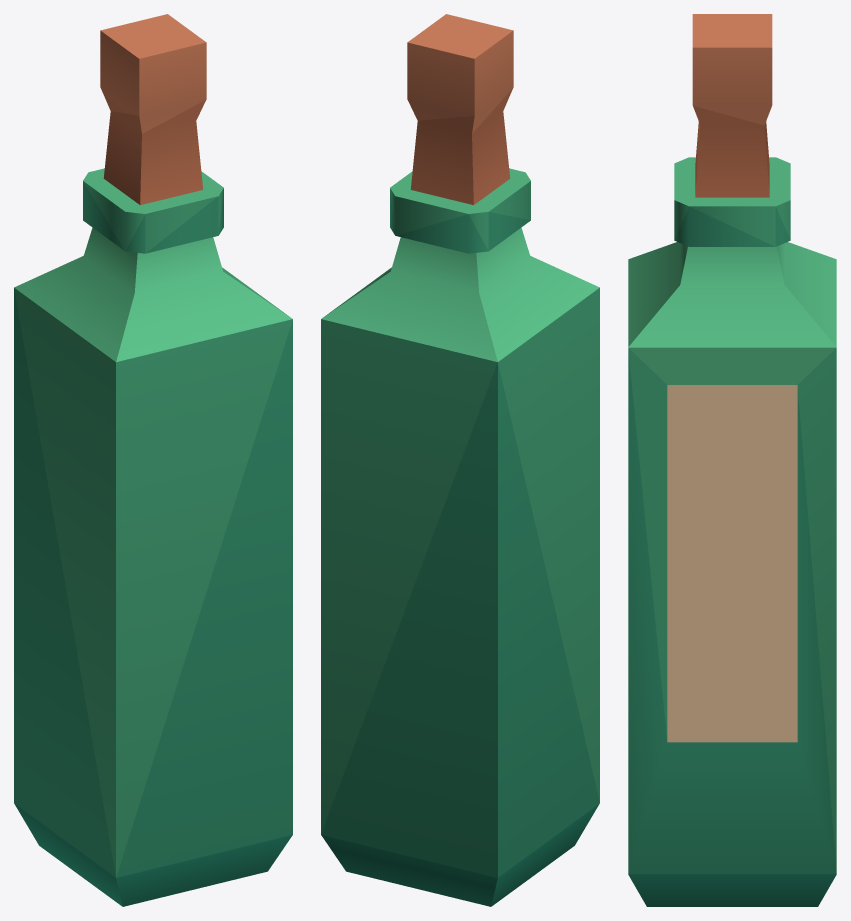
File: oleo.glb
3 renders of one model, left to right at view 1: azimuth 30°, elevation 25°; view 2: azimuth 150°, elevation 25°; view 3: azimuth 270°, elevation 25°, orthographic. The views are drawn at different scales.
Visible parts, largest first — view 1: bottle-oil; view 2: bottle-oil; view 3: bottle-oil.
Part boxes in pixels (x1,y1,x2,y2): bottle-oil: (14,14,292,906); bottle-oil: (321,14,599,906); bottle-oil: (628,14,836,906).
Size of the model in its own units: 0.14 by 0.6218 by 0.14.
